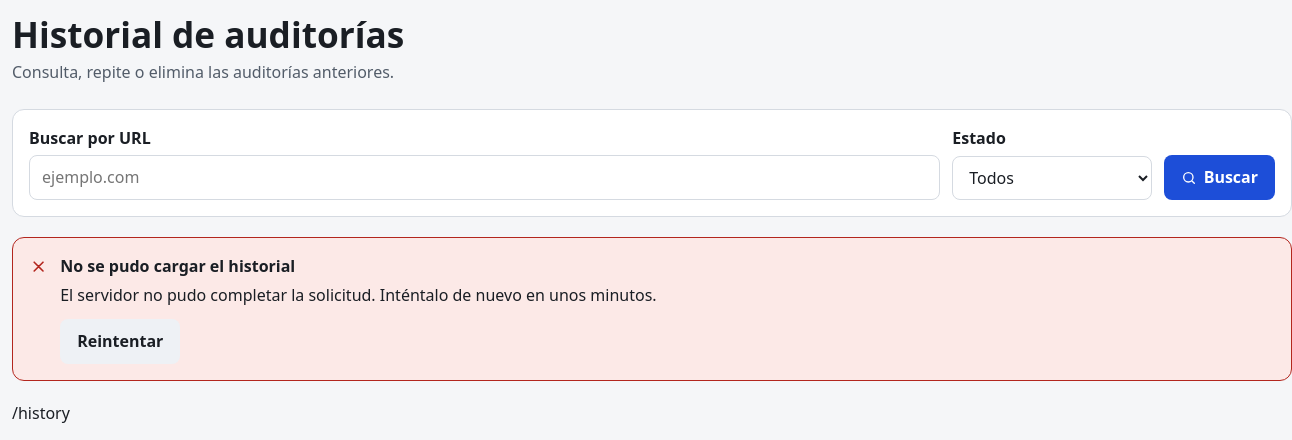
HistoryPage › shows an error with a retry button when the list cannot be loaded
The width and height of the screenshot is (1292, 440).
Expected: the message shows "No se pudo cargar el historial", top-left (60, 255), bottom-right (295, 277)
Click the button "Reintentar" at coordinates (120, 342), box top-left (60, 319), bottom-right (180, 364)
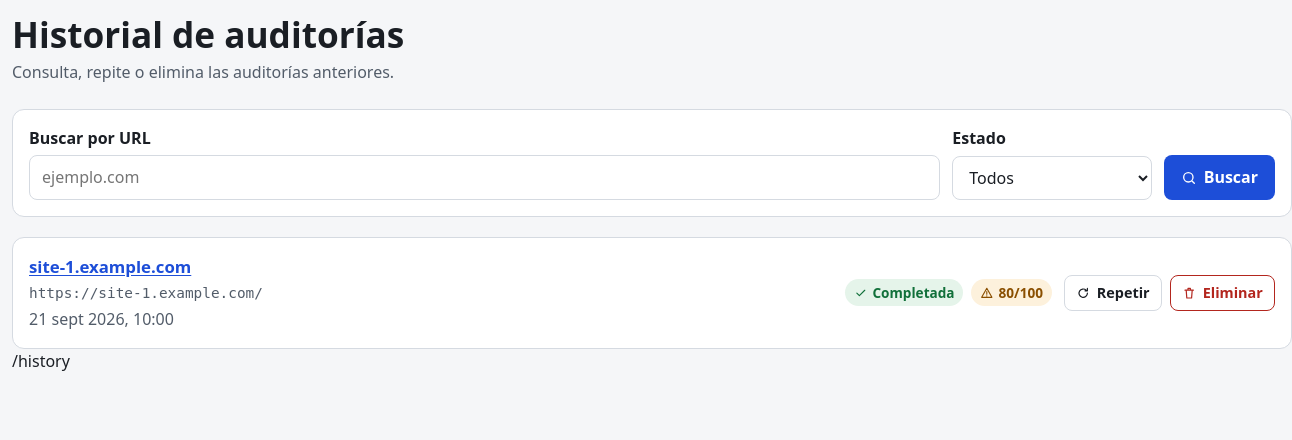
Now the number of list items is 1, box top-left (12, 237), bottom-right (1291, 349)
